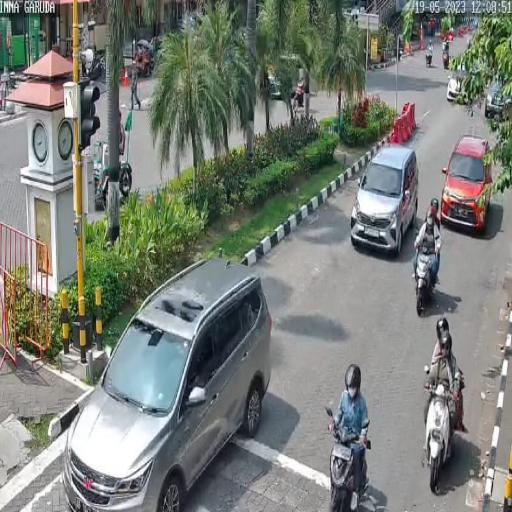mobil: (65, 252, 272, 512), (350, 142, 419, 262), (442, 128, 492, 249)
motor: (422, 361, 456, 500), (327, 397, 367, 512), (414, 226, 438, 322)
